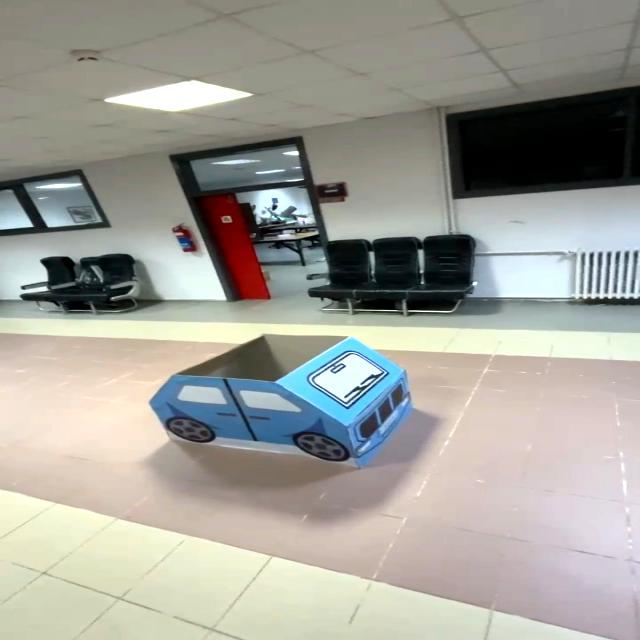blue_car: (123, 318, 441, 481)
